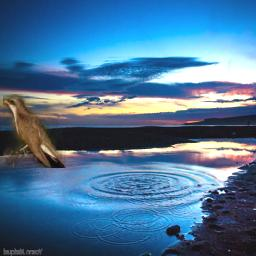Cuckoo: (3, 94, 66, 168)
